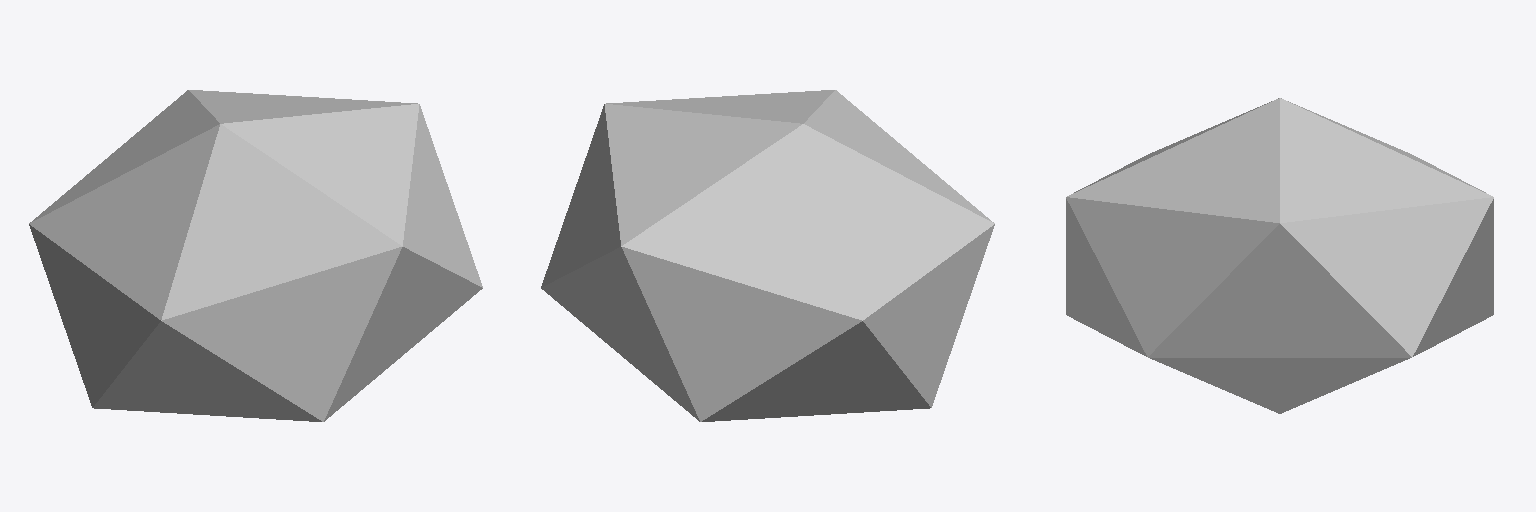
The model's file is leaves.obj.
3 views of the same model, side by side, from view 1: azimuth 30°, elevation 25°; view 2: azimuth 150°, elevation 25°; view 3: azimuth 270°, elevation 25° (orthographic).
Parts seen in each view (by area): view 1: Icosphere.001_Icosphere.001; view 2: Icosphere.001_Icosphere.001; view 3: Icosphere.001_Icosphere.001.
Boxes of the visible parts, x1=… form: Icosphere.001_Icosphere.001: x1=29, y1=90, x2=482, y2=421; Icosphere.001_Icosphere.001: x1=541, y1=90, x2=994, y2=421; Icosphere.001_Icosphere.001: x1=1066, y1=98, x2=1493, y2=413.
Size of the model in its own units: 3.53 by 2.9 by 4.